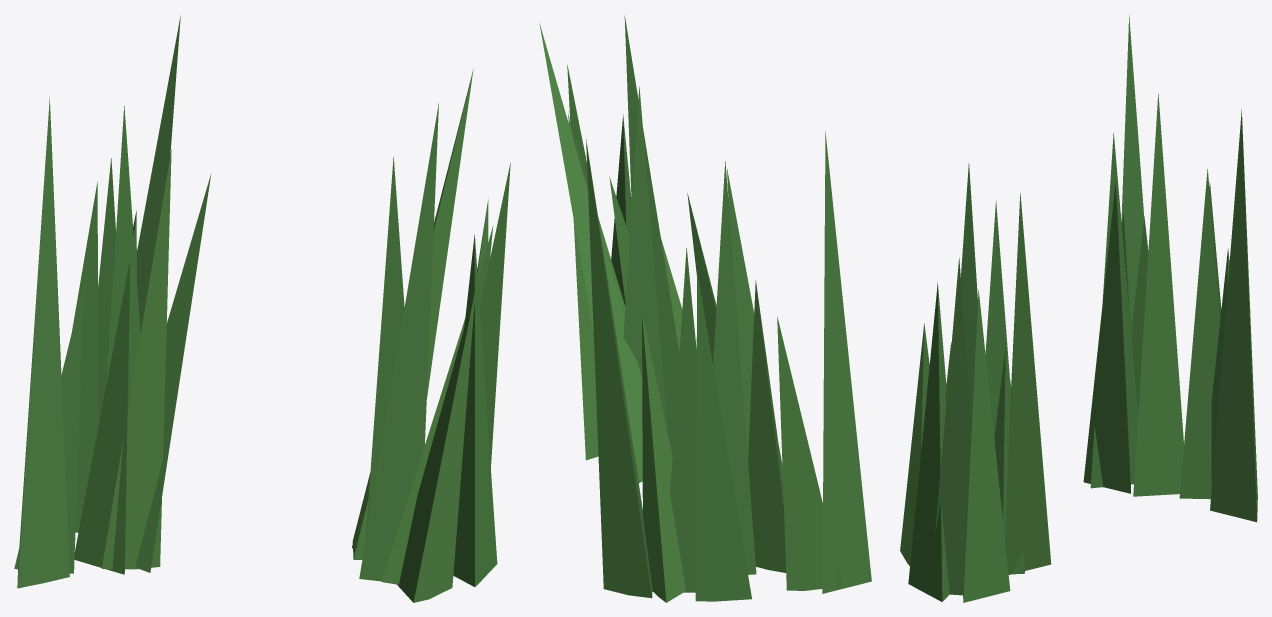
File: grass-tuft.glb
The picture shows the model from 3 angles, left to right: view 1: azimuth 30°, elevation 25°; view 2: azimuth 150°, elevation 25°; view 3: azimuth 270°, elevation 25°; orthographic projection. The views are drawn at different scales.
Parts seen in each view (by area): view 1: grass-tuft; view 2: grass-tuft; view 3: grass-tuft.
Boxes of the visible parts, x1,y1,x2,y2 form: grass-tuft: [14, 16, 510, 602]; grass-tuft: [539, 15, 871, 602]; grass-tuft: [900, 15, 1257, 602].
Bounding box in the file's own units: 0.6786 × 0.7562 × 0.5642.
